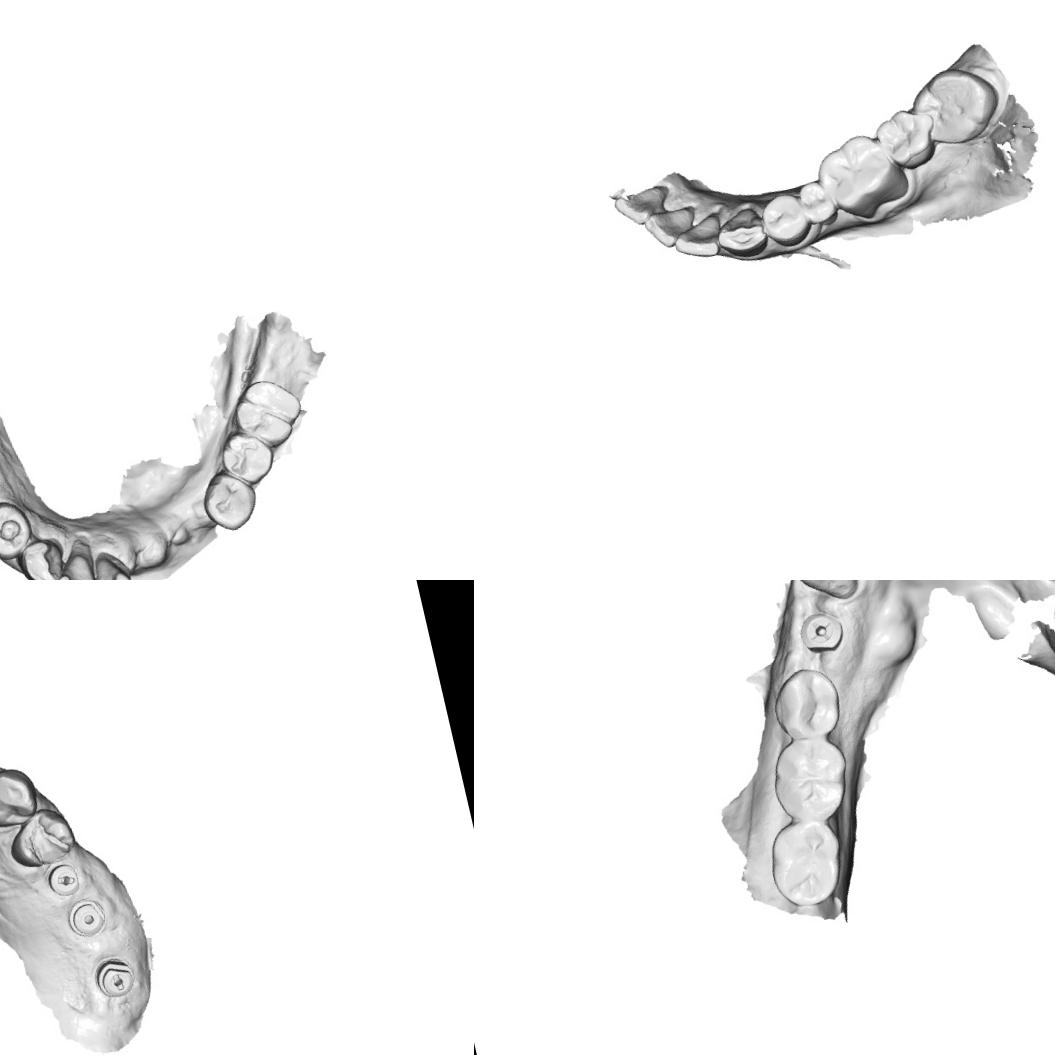canine: (711, 204, 772, 264), (0, 761, 43, 833), (12, 533, 72, 580), (780, 580, 863, 611)
implant: (59, 894, 112, 942)
implant_minus: (90, 951, 142, 1005), (43, 858, 86, 901)
implant_plus: (793, 606, 851, 661)
incisor: (667, 210, 730, 265), (640, 200, 705, 253), (610, 182, 676, 231), (42, 535, 105, 580), (84, 547, 139, 580)
molar: (810, 124, 918, 230), (907, 58, 1008, 153), (761, 814, 854, 914), (760, 732, 855, 828), (226, 372, 309, 455), (869, 100, 940, 177)
premolar: (764, 661, 846, 744), (1, 801, 81, 878), (196, 464, 264, 538), (215, 424, 280, 490), (756, 188, 812, 250), (0, 494, 38, 567), (792, 172, 838, 228)
